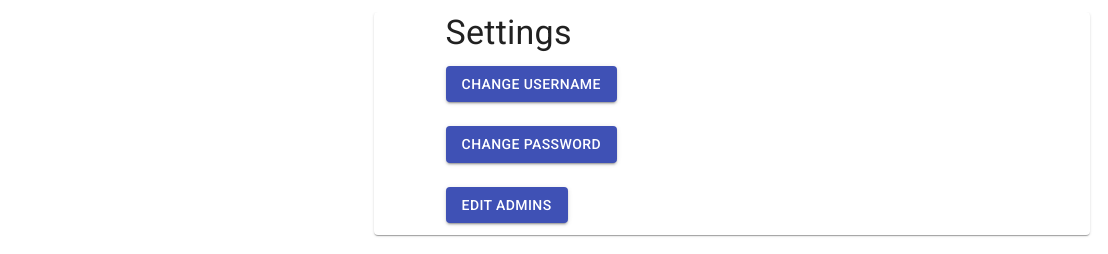
Test case: Settings.test › Goes to change username when button is clicked on
The width and height of the screenshot is (1108, 254).
Click the button "Change Username". click: [531, 84]
box: x1=446 y1=66 x2=617 y2=102
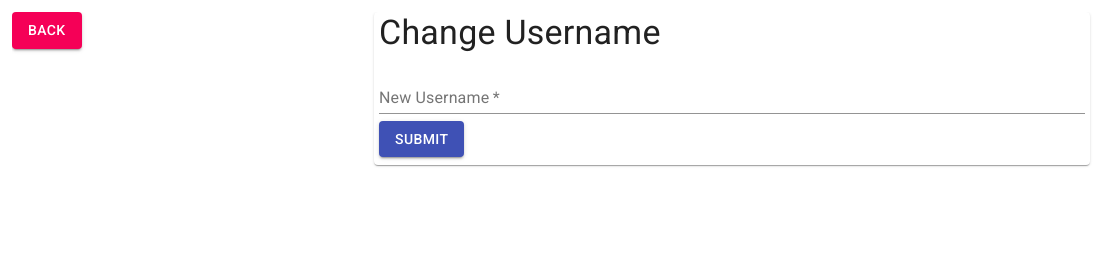
Result: the text "New Username *" is shown at x1=379 y1=90 x2=500 y2=106
